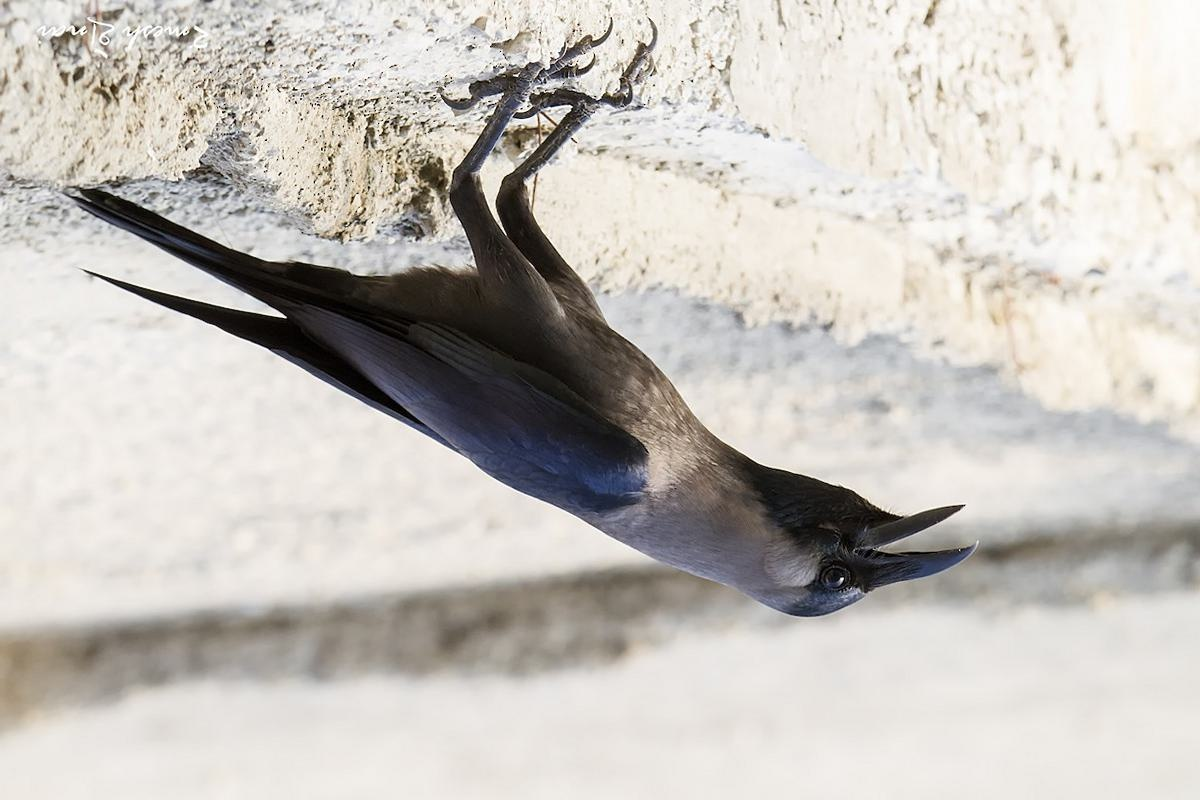crow: (97, 81, 988, 621)
